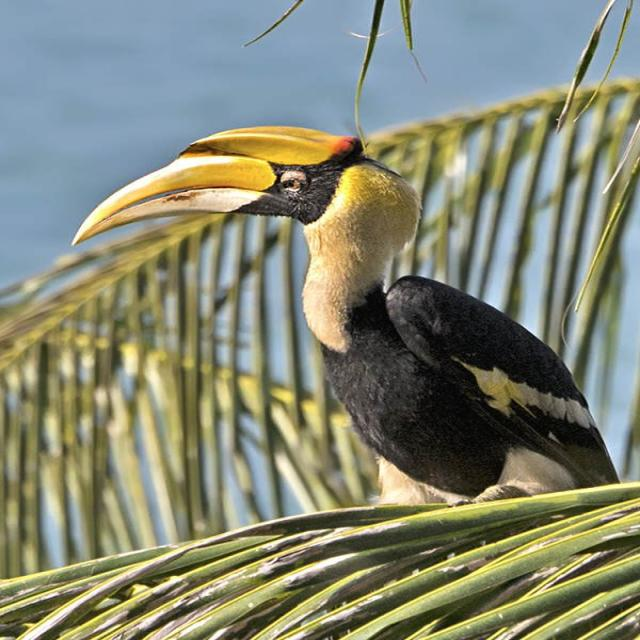Hornbill: (88, 118, 622, 499)
